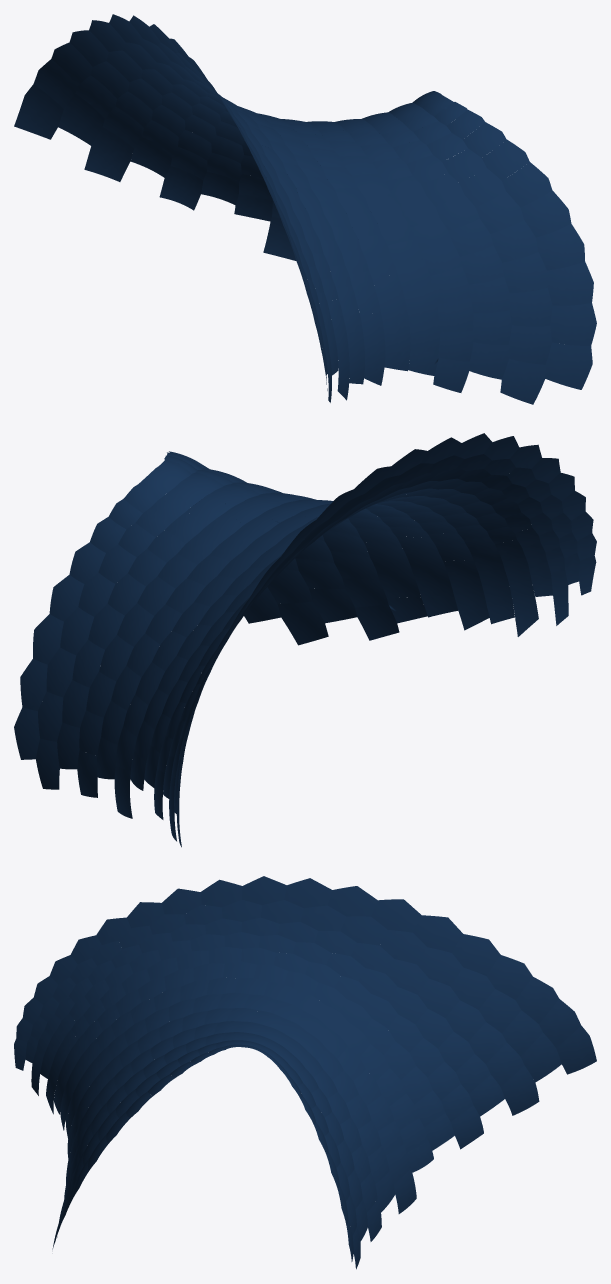
Rendered from qsmesh_2.web.glb.
The picture shows the model from 3 angles, top to bottom: view 1: azimuth 30°, elevation 25°; view 2: azimuth 150°, elevation 25°; view 3: azimuth 270°, elevation 25°; orthographic projection. The views are drawn at different scales.
Visible parts, largest first — view 1: catenoid_sph; view 2: catenoid_sph; view 3: catenoid_sph.
Part boxes in pixels (bbox=[...]): catenoid_sph: bbox=[14, 14, 596, 404]; catenoid_sph: bbox=[14, 433, 596, 847]; catenoid_sph: bbox=[14, 876, 596, 1269].
Size of the model in its own units: 25.54 by 24.81 by 46.77.
